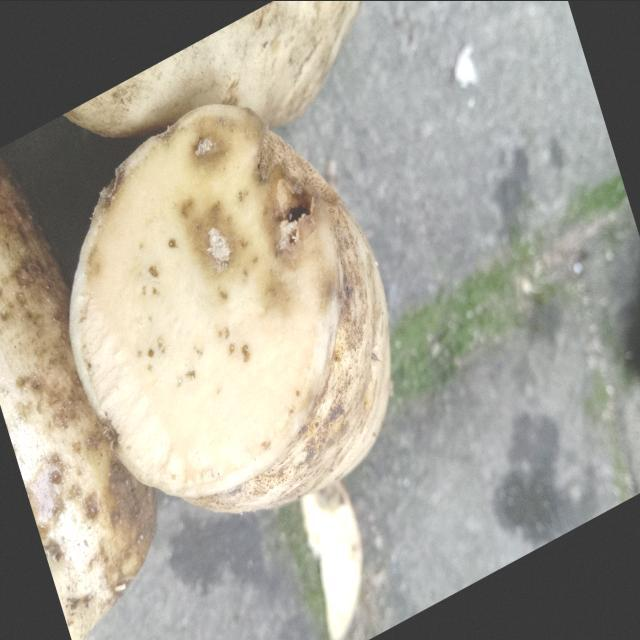Sick Sweet Potato_Tuber Rot: (70, 103, 340, 498)
